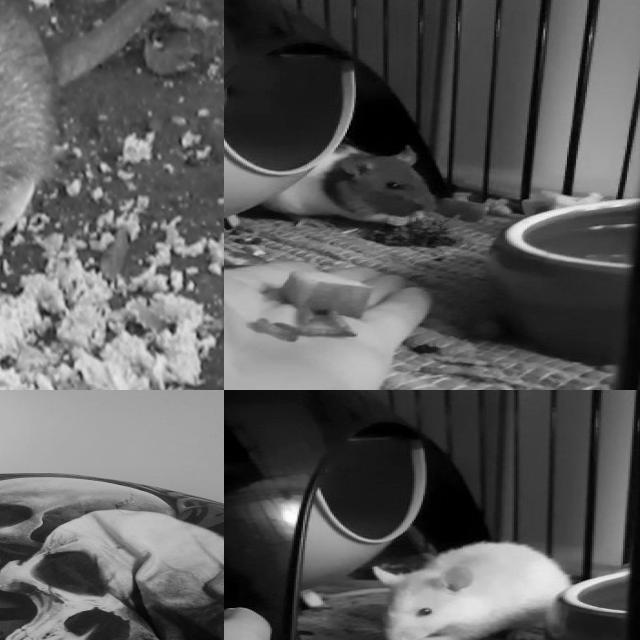rat: (0, 0, 118, 390), (373, 538, 584, 640), (260, 142, 435, 226)
